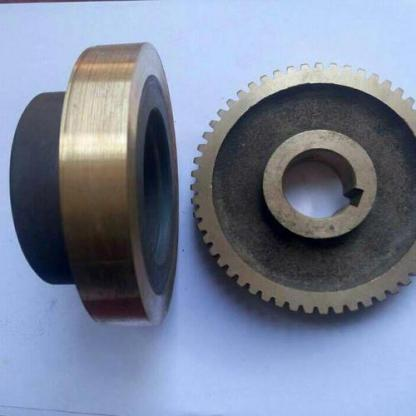FOD: (185, 57, 415, 334)
